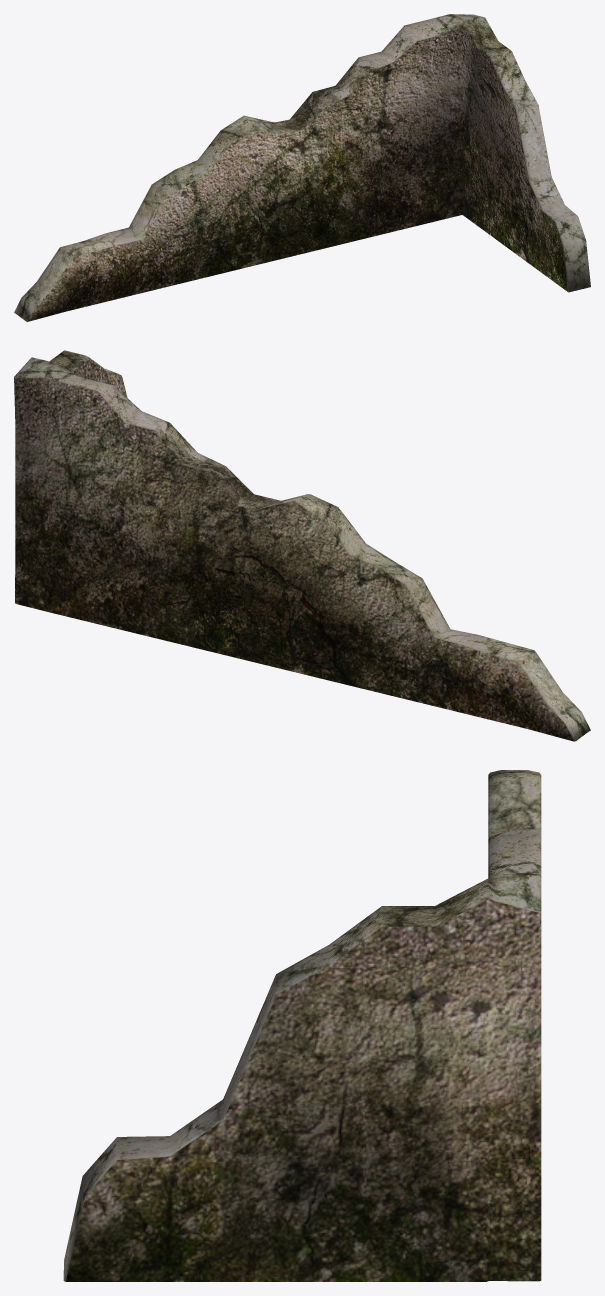
File: Ruins 1.FBX
The picture shows the model from 3 angles, top to bottom: view 1: azimuth 30°, elevation 25°; view 2: azimuth 150°, elevation 25°; view 3: azimuth 270°, elevation 25°; orthographic projection. The views are drawn at different scales.
Visible parts, largest first — view 1: default; view 2: default; view 3: default.
Part boxes in pixels (x1=…): default: x1=14, y1=14, x2=590, y2=321; default: x1=14, y1=350, x2=590, y2=741; default: x1=63, y1=770, x2=541, y2=1281.
Size of the model in its own units: 501 by 225 by 201.
Materials: 1 (1 with a texture image).
